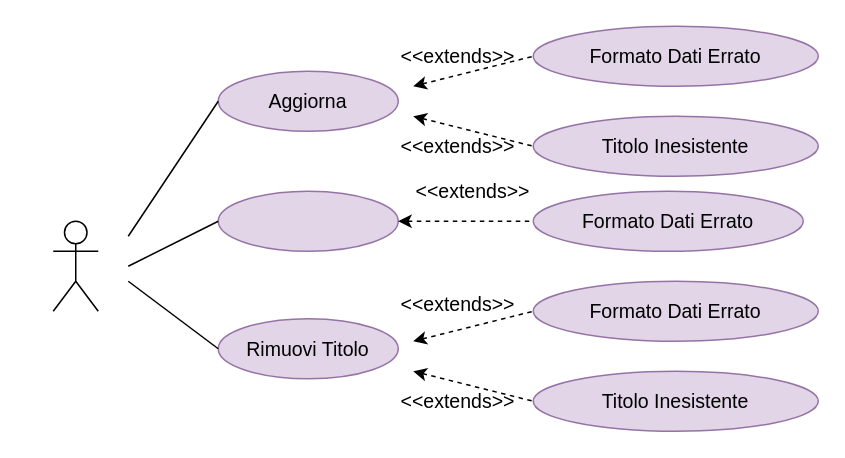
Image size: 845x458. Some labels were removed from this diagram. The centre of each missing label's shape, as x and y in pixels:
"Aggiungi Titolo" belongs at (x=307, y=220).
"Cataloghista" belongs at (x=75, y=265).
